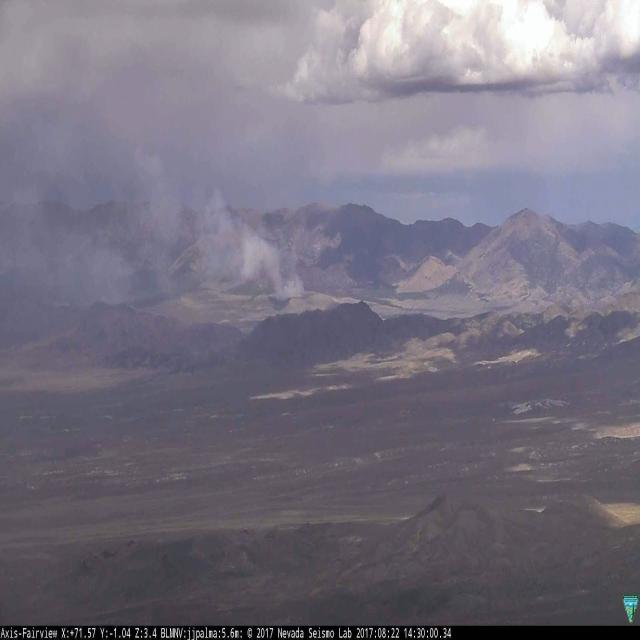smoke: (66, 149, 303, 300)
